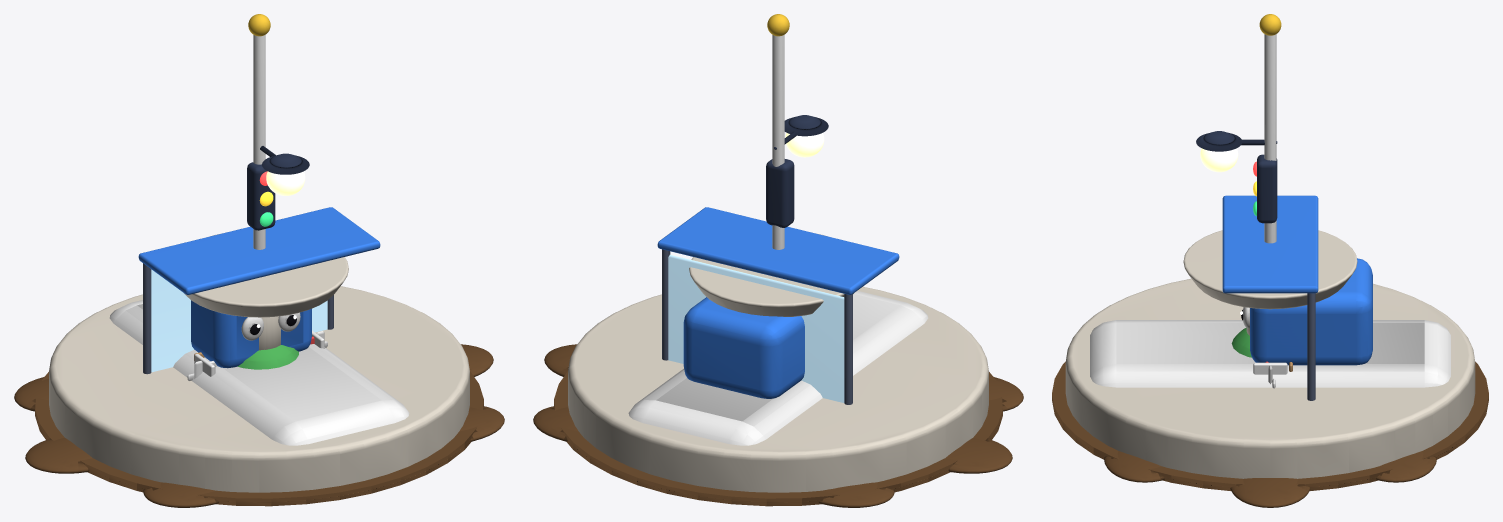
The model's file is props.glb.
The picture shows the model from 3 angles, left to right: view 1: azimuth 30°, elevation 25°; view 2: azimuth 150°, elevation 25°; view 3: azimuth 270°, elevation 25°; orthographic projection. The views are drawn at different scales.
Visible parts, largest first — view 1: pila, casco, techo, barro, taza, cabina, fondo, poste.004, borde.004, borde.003, caja, borde.001 (+7 smaller); view 2: pila, casco, techo, cabina, fondo, barro, taza, poste.004, caja, borde.004, borde.005, borde.007 (+6 smaller); view 3: pila, casco, techo, cabina, barro, taza, poste.004, borde, caja, borde.001, borde.007, poste.002 (+2 smaller).
Part boxes in pixels (<box>): pila: <box>49,286,469,492</box>; casco: <box>109,300,409,445</box>; techo: <box>138,207,380,294</box>; barro: <box>35,371,483,506</box>; taza: <box>184,233,348,317</box>; cabina: <box>191,300,311,368</box>; fondo: <box>151,269,327,372</box>; poste.004: <box>253,35,265,249</box>; borde.004: <box>25,437,92,473</box>; borde.003: <box>143,482,218,507</box>; caja: <box>247,162,275,230</box>; borde.001: <box>459,406,504,441</box>; pila: <box>568,286,988,492</box>; casco: <box>628,290,928,445</box>; techo: <box>657,207,899,294</box>; cabina: <box>683,297,804,398</box>; fondo: <box>668,254,844,402</box>; barro: <box>554,371,1002,506</box>; taza: <box>689,233,853,316</box>; poste.004: <box>772,35,784,249</box>; caja: <box>766,159,794,227</box>; borde.004: <box>945,437,1012,473</box>; borde.005: <box>819,482,894,507</box>; borde.007: <box>533,406,578,441</box>; pila: <box>1065,278,1475,478</box>; casco: <box>1090,320,1450,387</box>; techo: <box>1222,195,1318,293</box>; cabina: <box>1250,258,1372,365</box>; barro: <box>1052,362,1488,491</box>; taza: <box>1183,230,1357,309</box>; poste.004: <box>1264,34,1276,243</box>; borde: <box>1230,478,1310,507</box>; caja: <box>1257,154,1277,223</box>; borde.001: <box>1104,451,1164,482</box>; borde.007: <box>1376,451,1436,482</box>; poste.002: <box>1307,293,1315,400</box>.
Size of the model in its own units: 7.56 by 6.41 by 6.4.
